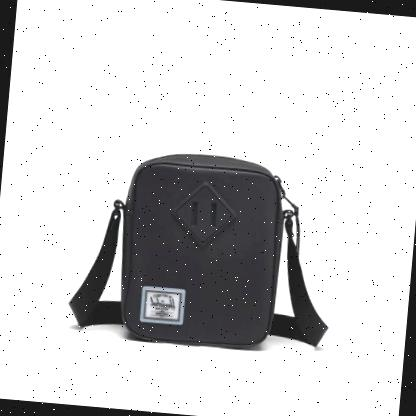bag: (60, 136, 346, 362)
